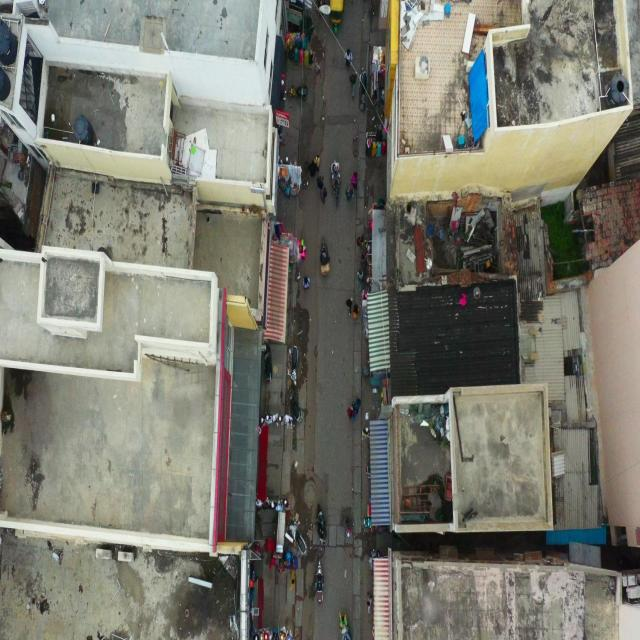Cycle: (330, 158, 341, 208), (320, 235, 330, 277), (315, 558, 324, 604)
